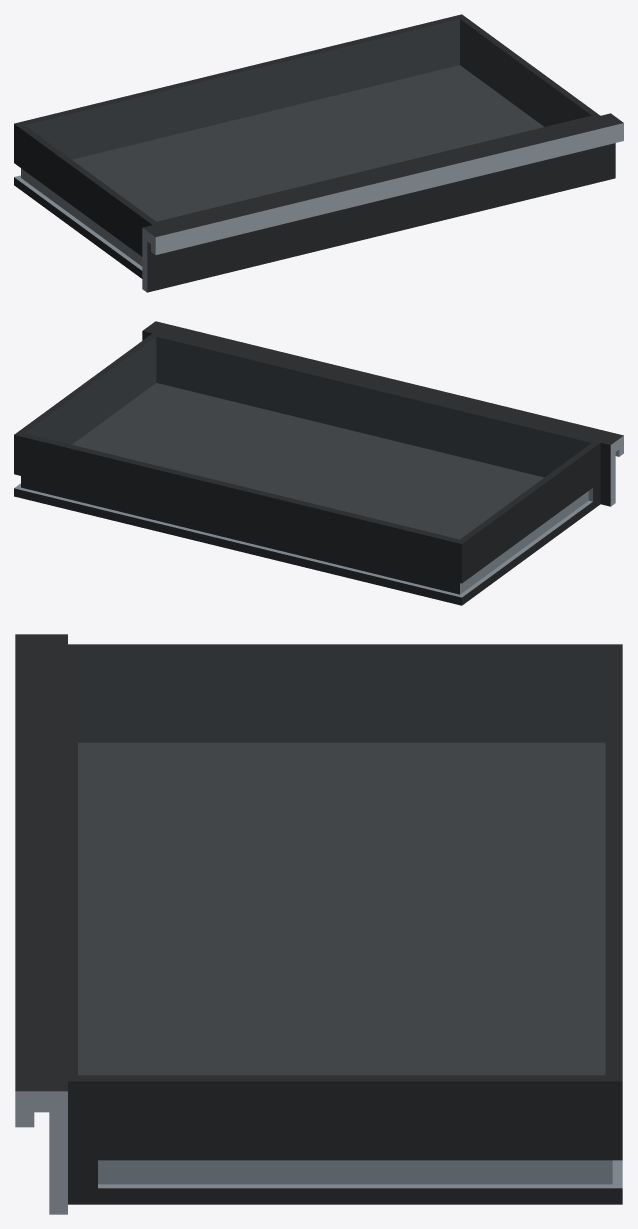
The model's file is SM_Prop_ToolCabinet_Top_02_Drawer_01.fbx.
The picture shows the model from 3 angles, top to bottom: view 1: azimuth 30°, elevation 25°; view 2: azimuth 150°, elevation 25°; view 3: azimuth 270°, elevation 25°; orthographic projection. The views are drawn at different scales.
Visible parts, largest first — view 1: SM_Prop_ToolCabinet_Top_02_Drawer_01; view 2: SM_Prop_ToolCabinet_Top_02_Drawer_01; view 3: SM_Prop_ToolCabinet_Top_02_Drawer_01.
Boxes of the visible parts, box(x1,y1,x2,y2) form: SM_Prop_ToolCabinet_Top_02_Drawer_01: box(14, 14, 623, 292); SM_Prop_ToolCabinet_Top_02_Drawer_01: box(14, 321, 623, 605); SM_Prop_ToolCabinet_Top_02_Drawer_01: box(15, 634, 622, 1214).
Bounding box in the file's own units: 68.28 × 8.59 × 38.35.
